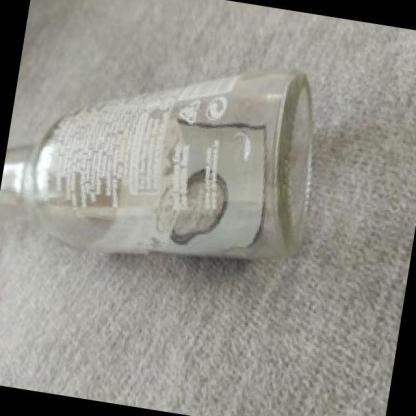Can: (0, 69, 314, 260)
